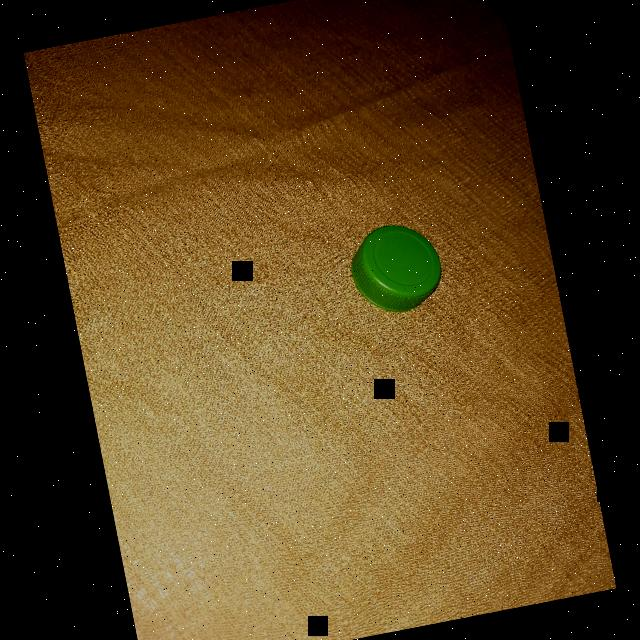plastic_bottle_cap: (344, 216, 449, 320)
